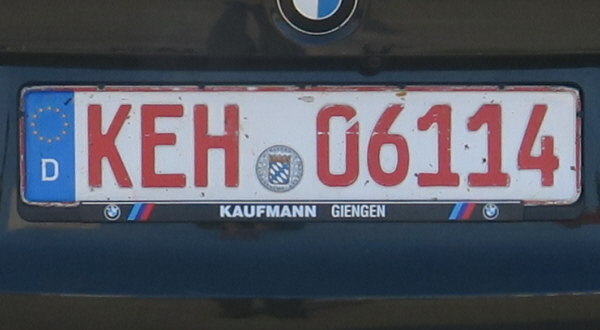license_plate: (18, 83, 581, 207)
